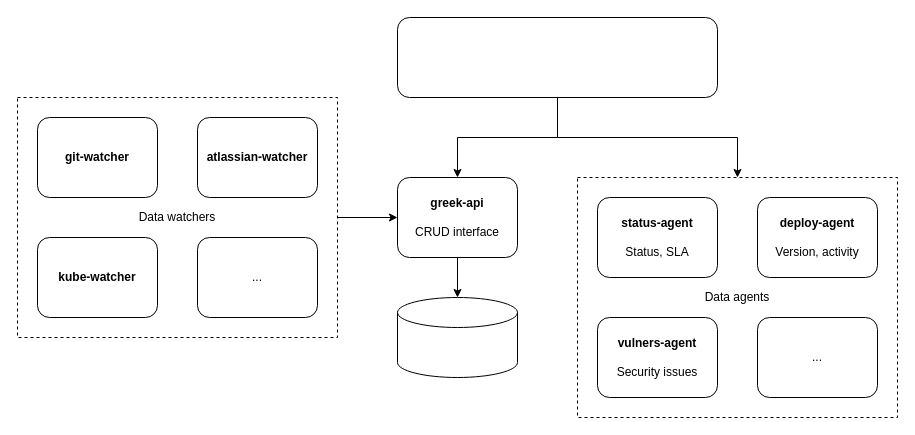
The diagram is 915 pixels wide and 435 high, and some of its shapes have lost their labels. The centre of each missing label's shape, as x and y in pixels:
"agora-ui User Interface" goes at point 557,57.
"Database" goes at point 457,337.
